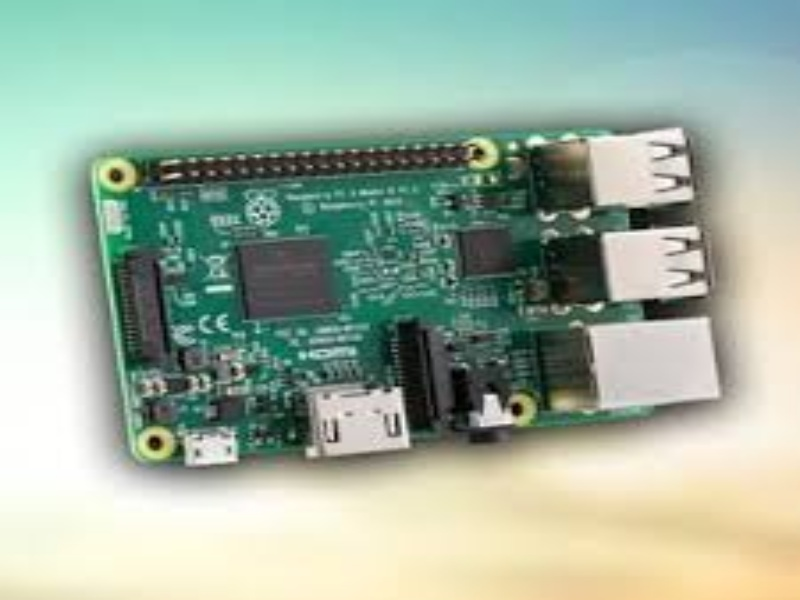raspberrypi: (84, 119, 726, 464)
